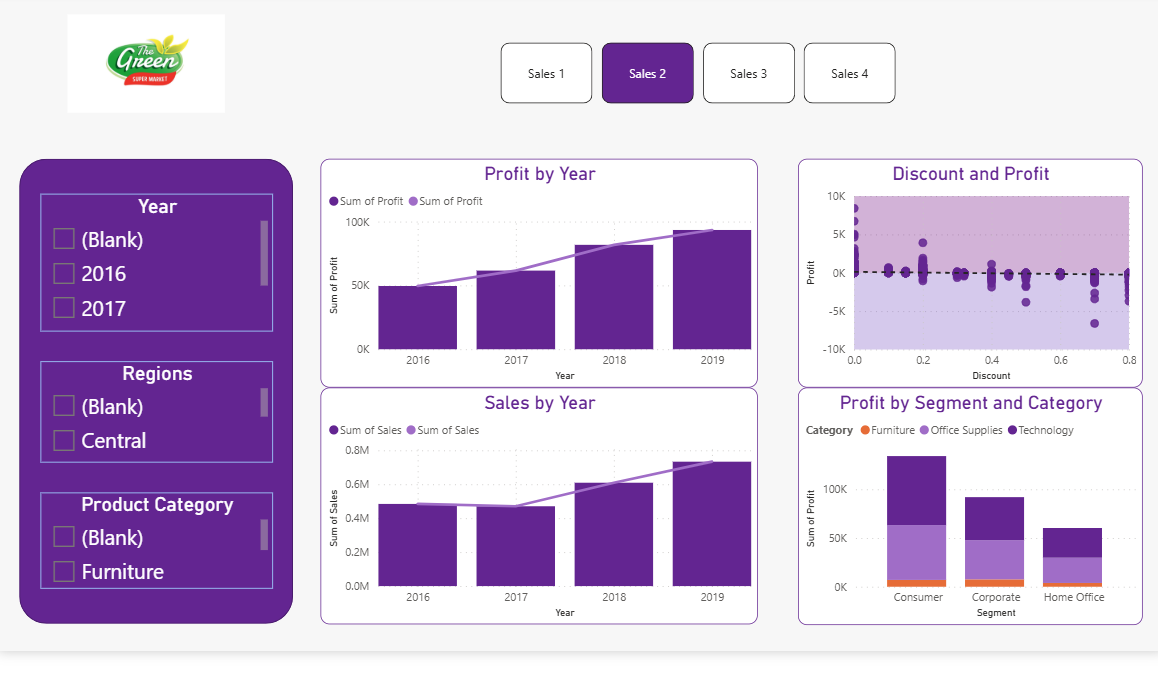

What the dashboard file says about the page in this screenshot:
{"tool":"powerbi","page":{"name":"Sales 2 ","canvas":[1280,720],"ordinal":1},"visuals":[{"type":"shape","box":[23.3,179.8,300.5,510.5],"z":0},{"type":"lineClusteredColumnComboChart","title":"Profit by Year","fields":{"Category":["Orders.Order Date.Variation.Date Hierarchy.Year","Orders.Order Date.Variation.Date Hierarchy.Quarter","Orders.Order Date.Variation.Date Hierarchy.Month","Orders.Order Date.Variation.Date Hierarchy.Day"],"Y":["Sum(Orders.Profit)"],"Y2":["Sum(Orders.Profit)"]},"box":[354,179.8,480.3,251.1],"z":1000},{"type":"slicer","title":"Year","fields":{"Values":["Orders.Order Date.Variation.Date Hierarchy.Year"]},"box":[46.7,218.2,255.2,150.9],"z":2000},{"type":"slicer","title":"Regions","fields":{"Values":["Orders.Region"]},"box":[46.7,401.9,255.2,111.1],"z":3000},{"type":"slicer","title":"Product Category","fields":{"Values":["Orders.Category"]},"box":[46.7,545.9,255.2,105.7],"z":4000},{"type":"lineClusteredColumnComboChart","title":"Sales by Year","fields":{"Category":["Orders.Order Date.Variation.Date Hierarchy.Year","Orders.Order Date.Variation.Date Hierarchy.Quarter","Orders.Order Date.Variation.Date Hierarchy.Month","Orders.Order Date.Variation.Date Hierarchy.Day"],"Y":["Sum(Orders.Sales)"],"Y2":["Sum(Orders.Sales)"]},"box":[354.3,431.4,480,260],"z":6000},{"type":"scatterChart","fields":{"X":["Orders.Discount"],"Y":["Orders.Profit"]},"box":[878.6,180,378.6,251.4],"z":7000},{"type":"columnChart","title":"Profit by Segment and Category","fields":{"Category":["Orders.Segment"],"Y":["Sum(Orders.Profit)"],"Series":["Orders.Category"]},"box":[878.2,430.9,378.7,260.7],"z":8000},{"type":"pageNavigator","box":[551.6,52.1,436.4,67.2],"z":9000},{"type":"image","box":[37,16.5,251.1,118],"z":9001}]}

Visuals, with their boxes on the page's 1280x720 design canvas (x1, y1, x2, y2). These are canvas units, not pixel positions in the 1158x692 screenshot, which may show the page scaled, cropped or inside an application window:
shape: x1=23 y1=180 x2=324 y2=690
"Profit by Year" lineClusteredColumnComboChart: x1=354 y1=180 x2=834 y2=431
"Year" slicer: x1=47 y1=218 x2=302 y2=369
"Regions" slicer: x1=47 y1=402 x2=302 y2=513
"Product Category" slicer: x1=47 y1=546 x2=302 y2=652
"Sales by Year" lineClusteredColumnComboChart: x1=354 y1=431 x2=834 y2=691
scatterChart - Orders.Discount x Orders.Profit: x1=879 y1=180 x2=1257 y2=431
"Profit by Segment and Category" columnChart: x1=878 y1=431 x2=1257 y2=692
pageNavigator: x1=552 y1=52 x2=988 y2=119
image: x1=37 y1=16 x2=288 y2=134
